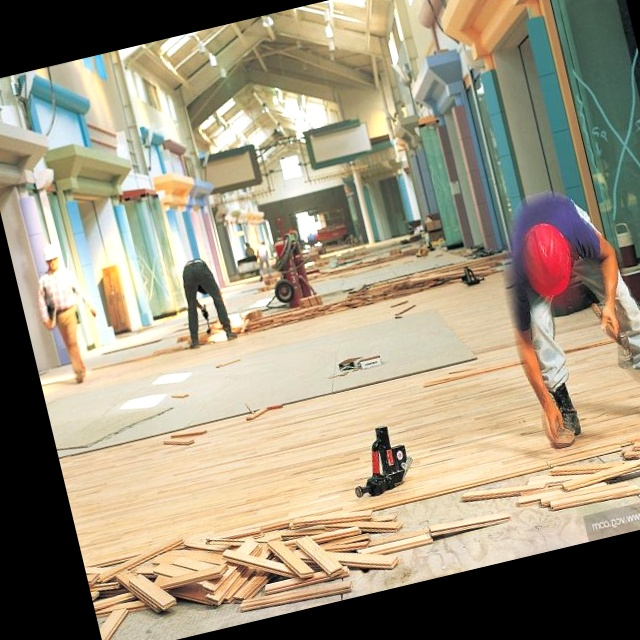Con_Casco: (514, 217, 581, 302)
Sin_Chaleco: (34, 264, 82, 327)
